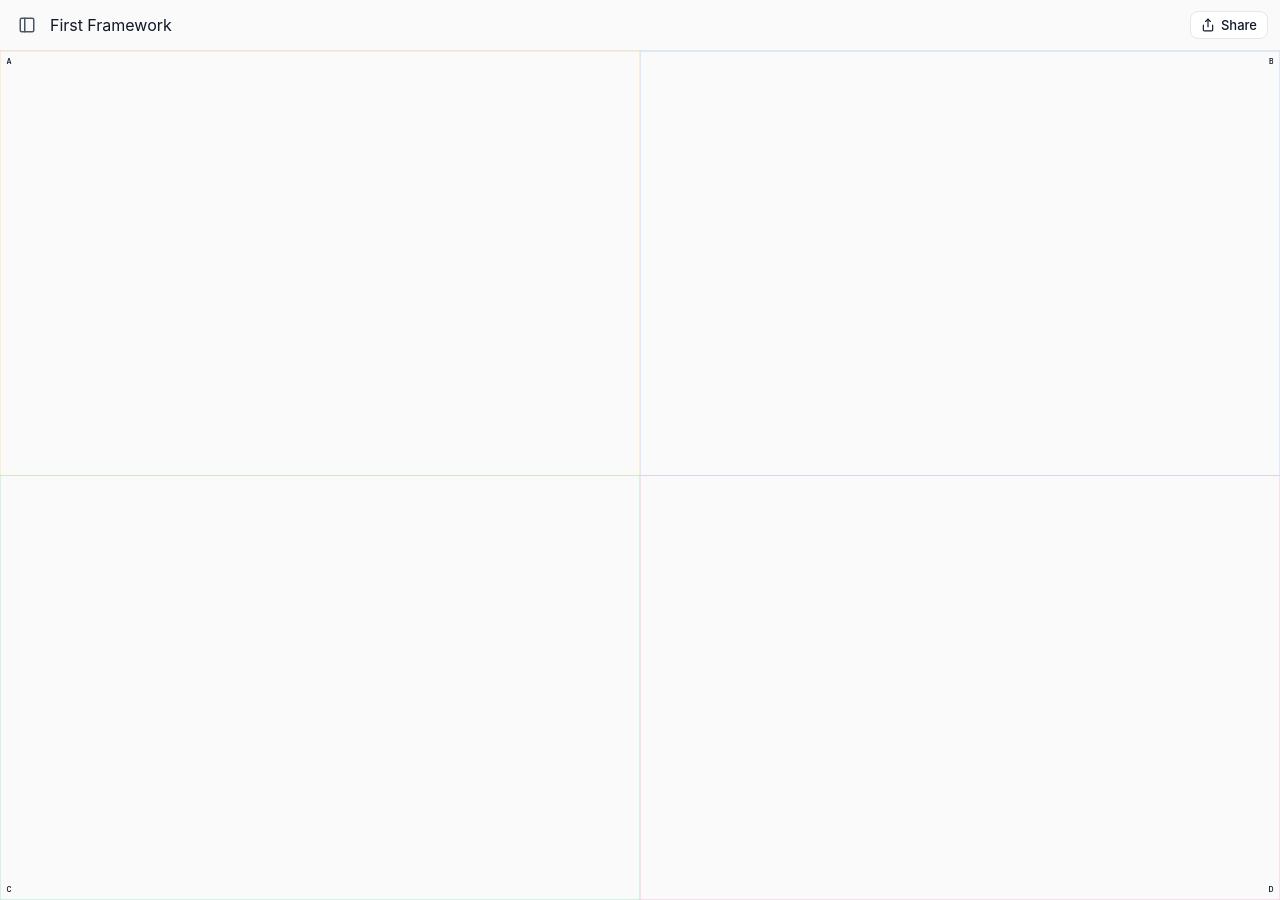
Test: App › mobile drawer dismissal on navigation (BUG-014) › dismisses the drawer when Import is chosen
Click the button named "open sidebar": (27, 25) [12, 10, 42, 40]
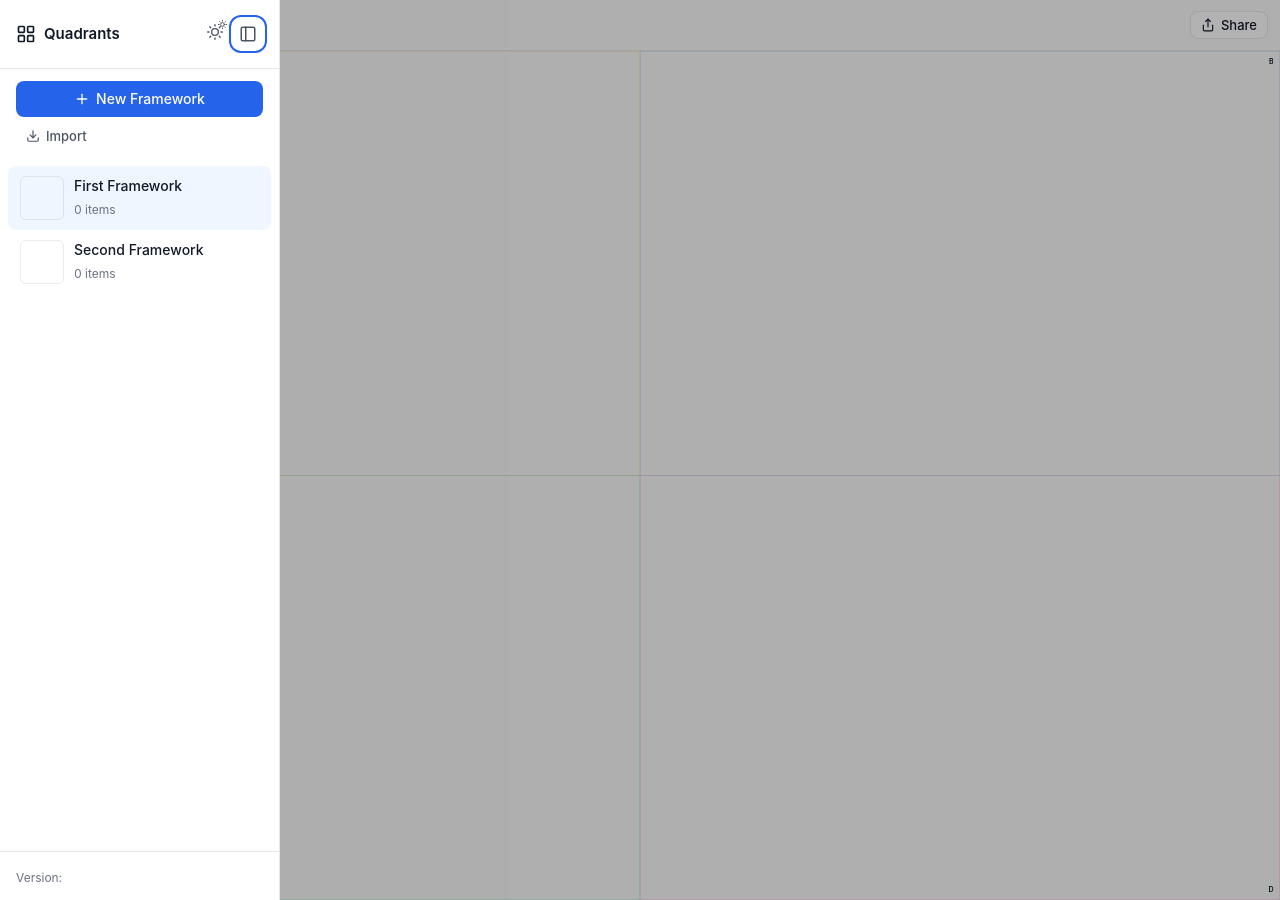
Click the button "Import": (140, 136) [16, 123, 263, 150]
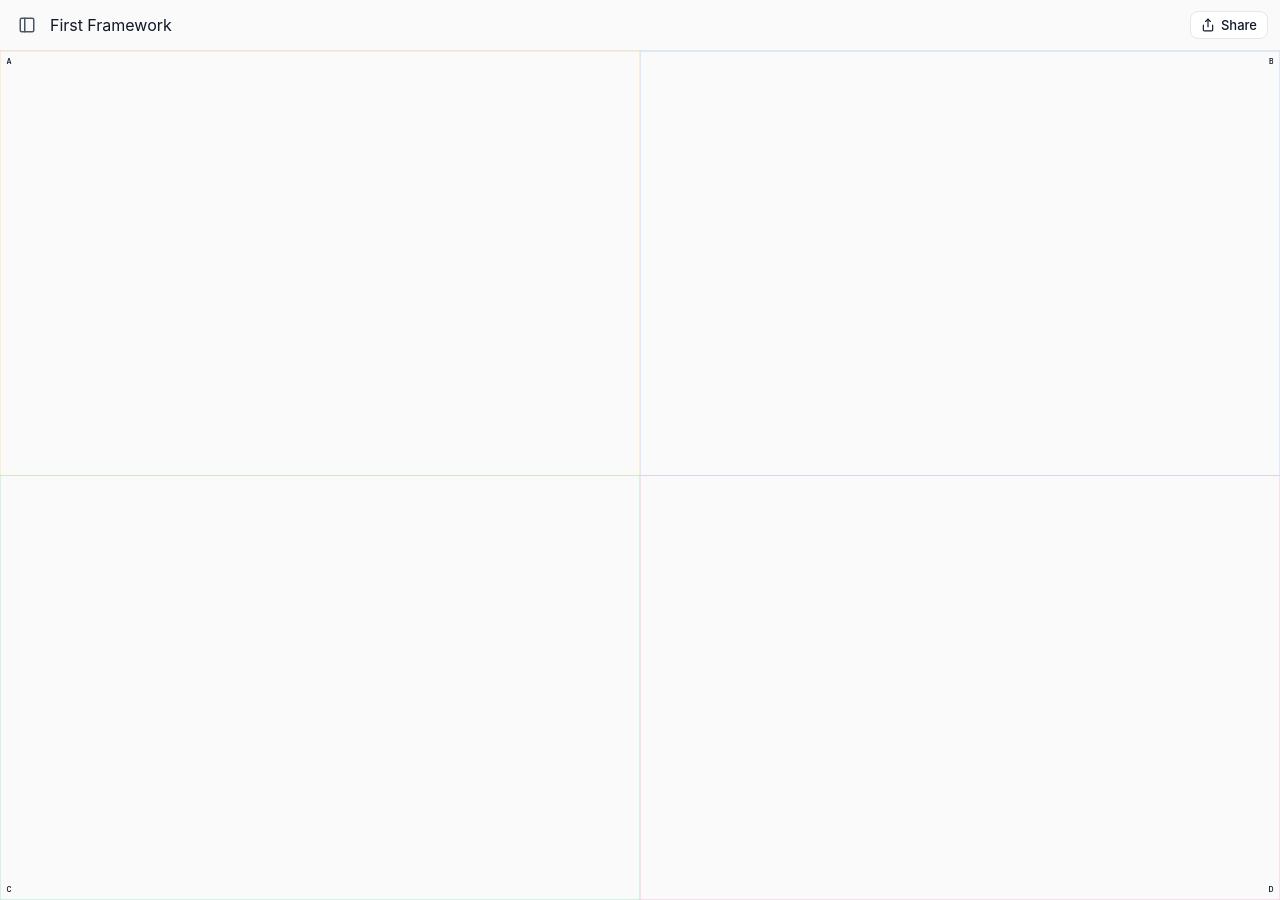
Expected: the element with test id "sidebar-backdrop" is gone
